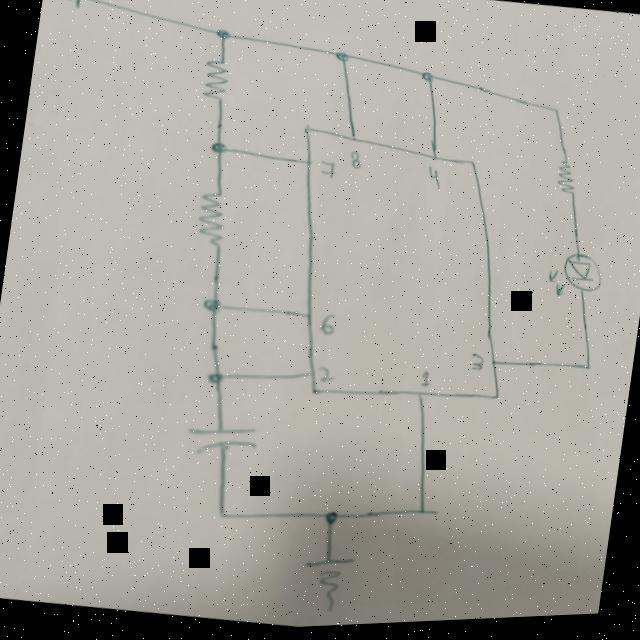capacitor: (186, 420, 256, 462)
diode: (540, 249, 606, 311)
ground: (300, 551, 362, 616)
junction: (206, 137, 233, 157), (204, 368, 228, 389), (318, 508, 342, 529), (200, 297, 224, 317), (210, 505, 234, 525), (410, 504, 433, 522), (210, 26, 232, 44), (330, 50, 352, 67), (416, 70, 436, 88), (578, 362, 598, 380), (546, 106, 564, 124)
resistor: (190, 187, 230, 252), (198, 54, 233, 107), (549, 159, 580, 199)
source: (61, 0, 85, 11)
text: (317, 312, 338, 338), (316, 158, 336, 182), (466, 354, 486, 377), (425, 165, 442, 190), (315, 362, 332, 384), (349, 155, 361, 173), (419, 371, 431, 388)
